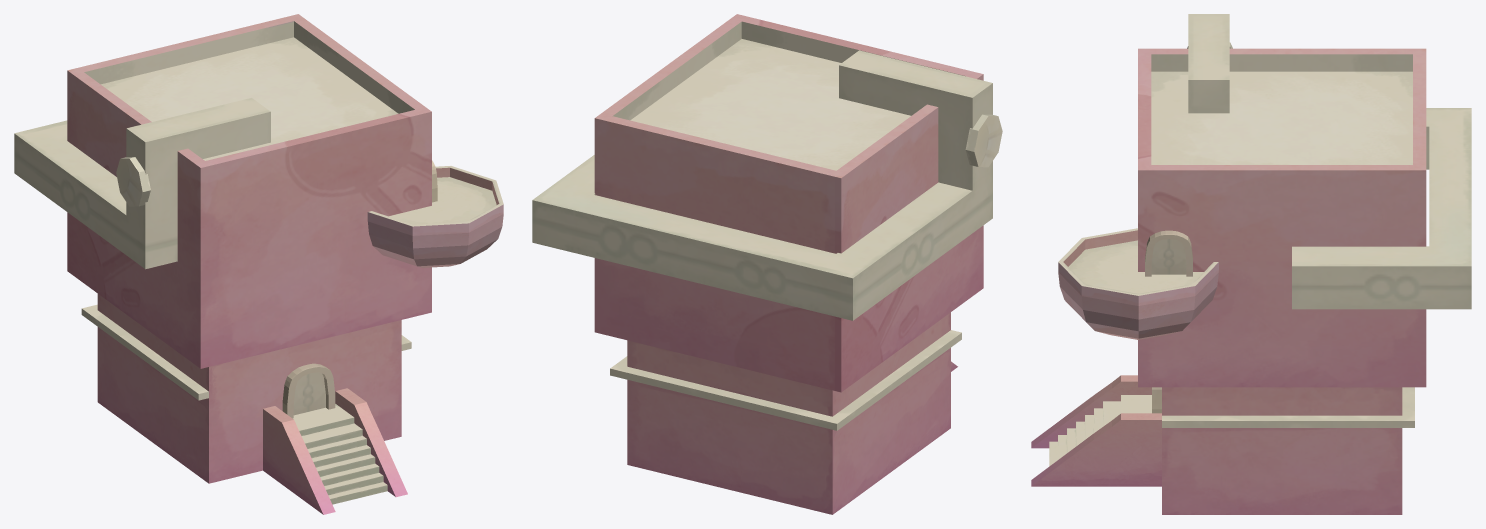
Rendered from building_b.fbx.
The picture shows the model from 3 angles, left to right: view 1: azimuth 30°, elevation 25°; view 2: azimuth 150°, elevation 25°; view 3: azimuth 270°, elevation 25°; orthographic projection. The views are drawn at different scales.
Visible parts, largest first — view 1: Cube.002; view 2: Cube.002; view 3: Cube.002.
Boxes of the visible parts, x1,y1,x2,y2 form: Cube.002: (14,14,503,514); Cube.002: (532,14,1002,514); Cube.002: (1031,14,1471,514).
Size of the model in its own units: 2023 by 1998 by 2142.
